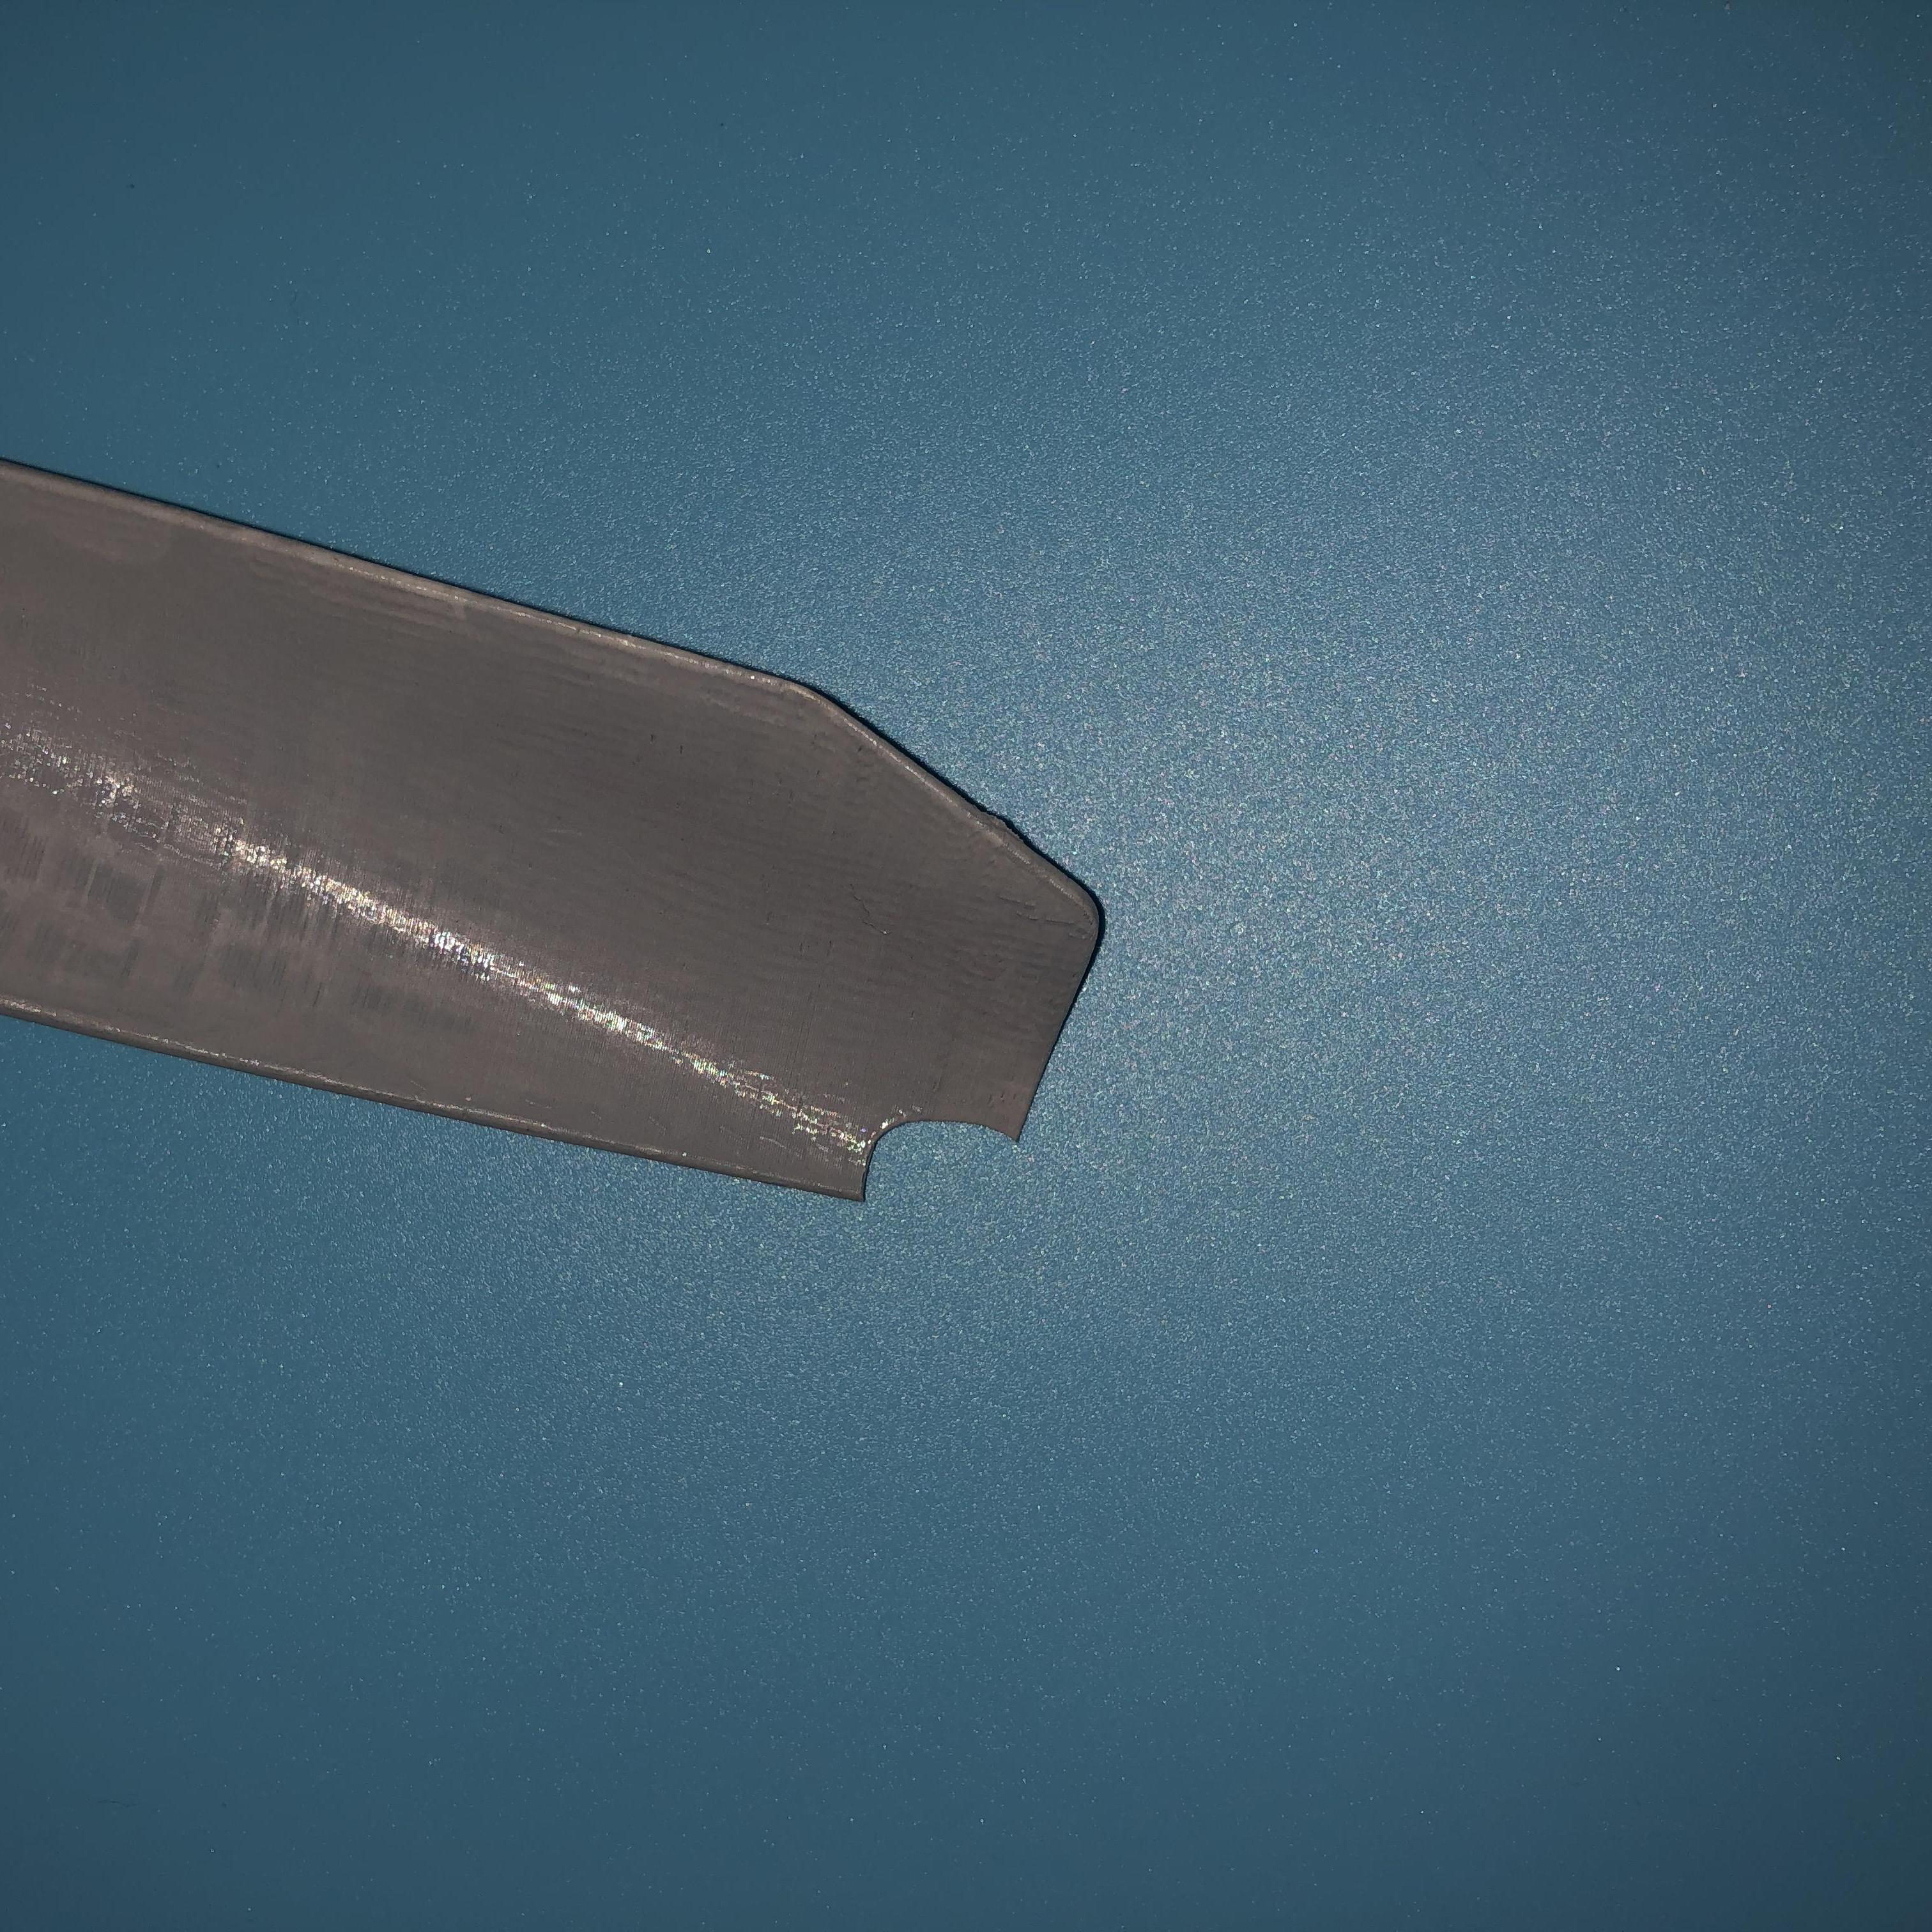fracture: (855, 1097, 1028, 1205)
